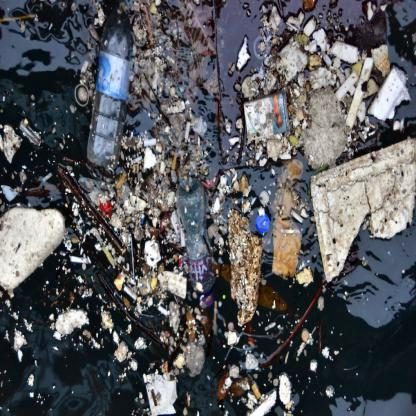Plastic: (82, 12, 133, 174)
